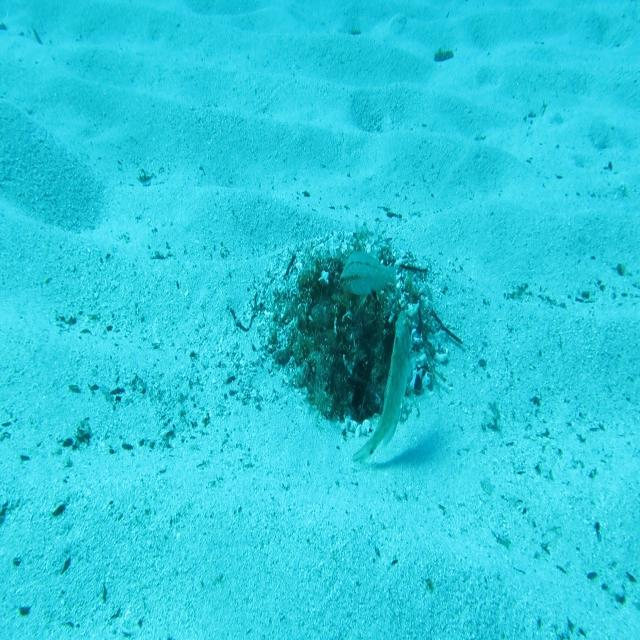GB: (350, 304, 414, 466)
core_nest: (317, 268, 378, 328)
female: (340, 247, 400, 300)
nest: (238, 203, 458, 445)
vegetation: (434, 46, 454, 64)
